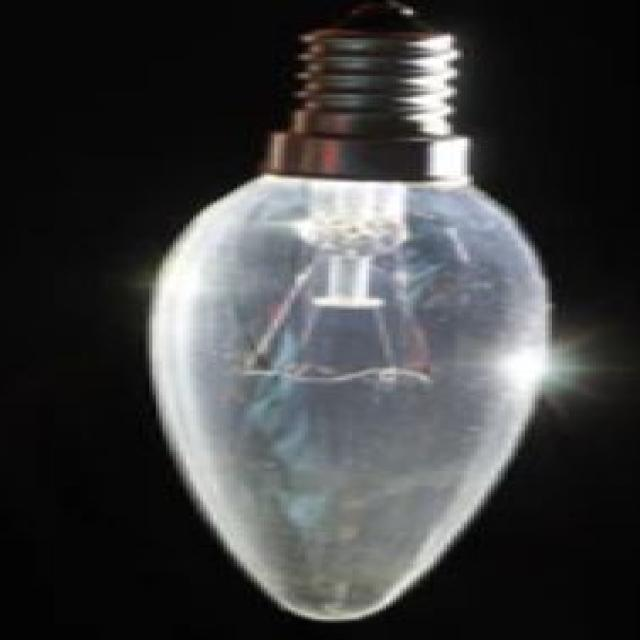electronic: (142, 0, 552, 621)
